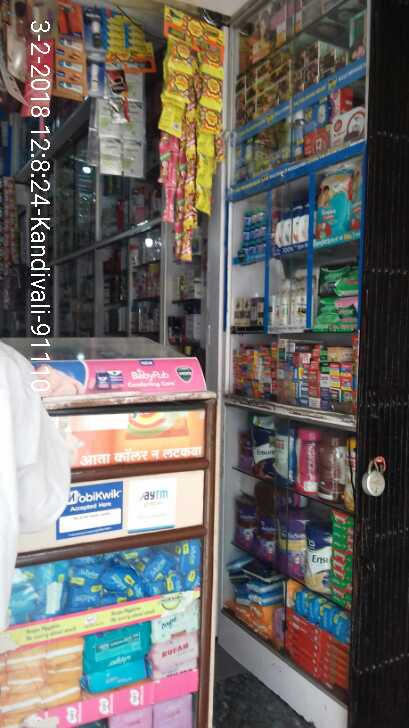vicks: (236, 207, 267, 251)
